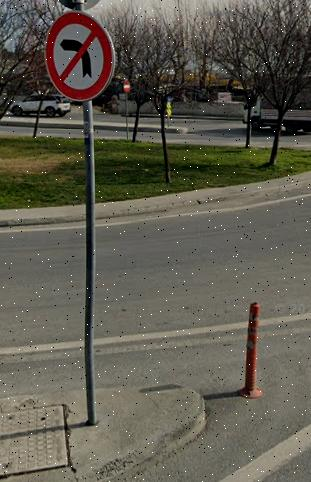leftturnsareforbidden: (45, 15, 113, 95)
